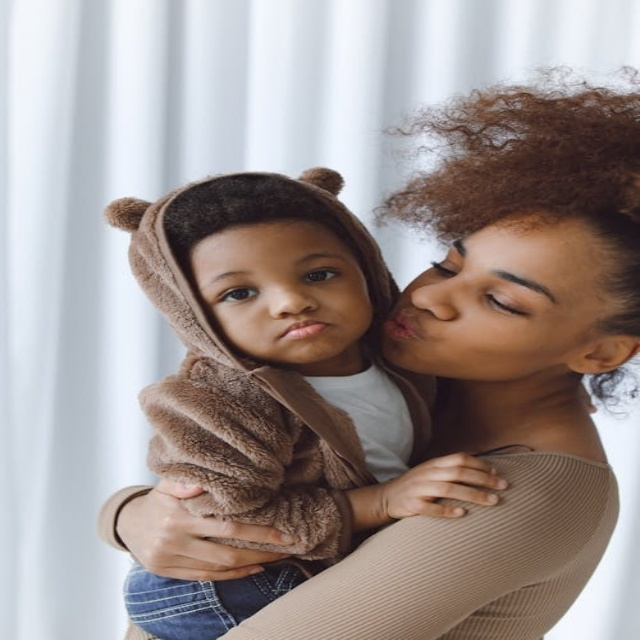Sin_gafas: (422, 233, 562, 318), (197, 250, 352, 309)
Sin_guantes: (122, 477, 303, 580), (369, 452, 507, 522)
Sin_mascara: (374, 300, 453, 367), (260, 313, 348, 361)
